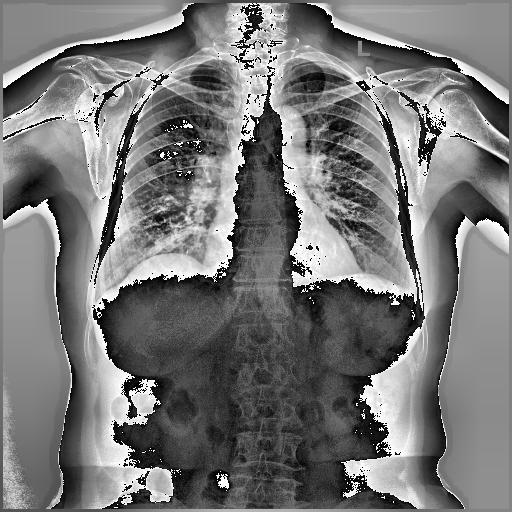0- Aortic enlargement: (262, 106, 308, 164), (263, 106, 306, 158), (272, 104, 304, 144)
3- Cardiomegaly: (202, 232, 364, 290)
5- ILD: (112, 180, 218, 269), (133, 196, 179, 256)
6- Infiltration: (112, 180, 218, 269)
